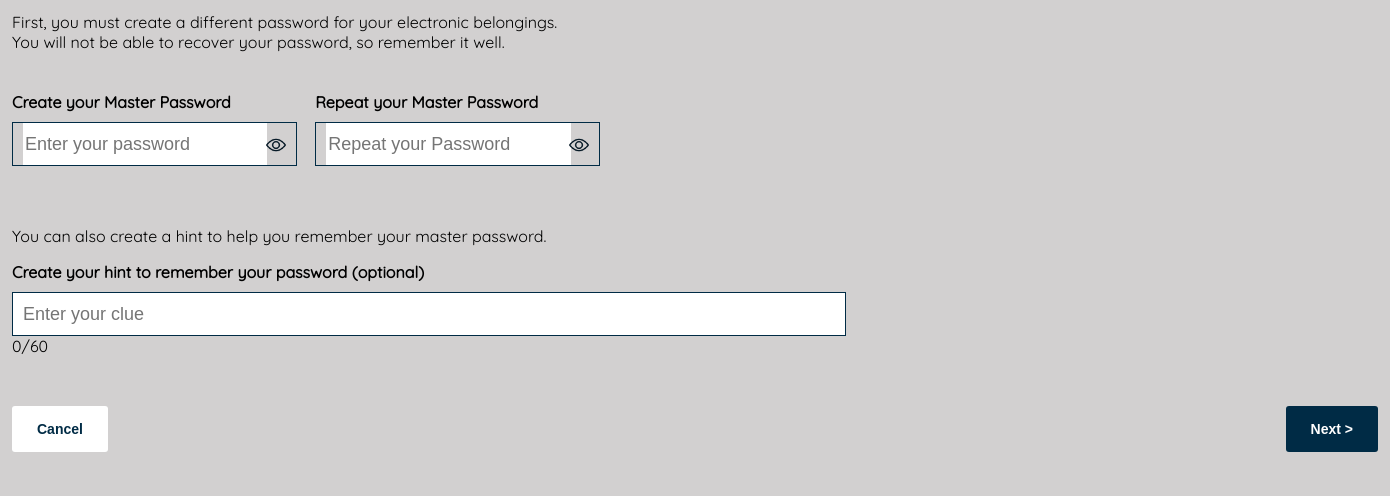
it: views/passwordManager/components/formPassword/formPassword › should display a error on passwordInput when the password do not match
In the password field with placeholder "Enter your password": (145, 144) [23,123,267,165], type "Prueba123"
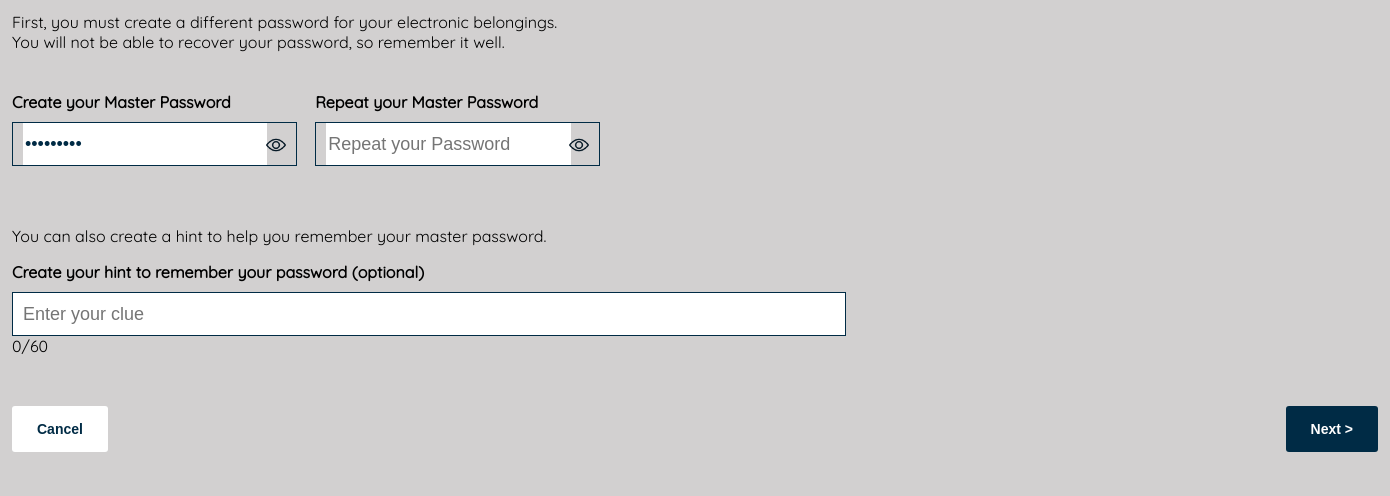
In the password field with placeholder "Repeat your Password": (448, 144) [326,123,571,165], type "Preba123"
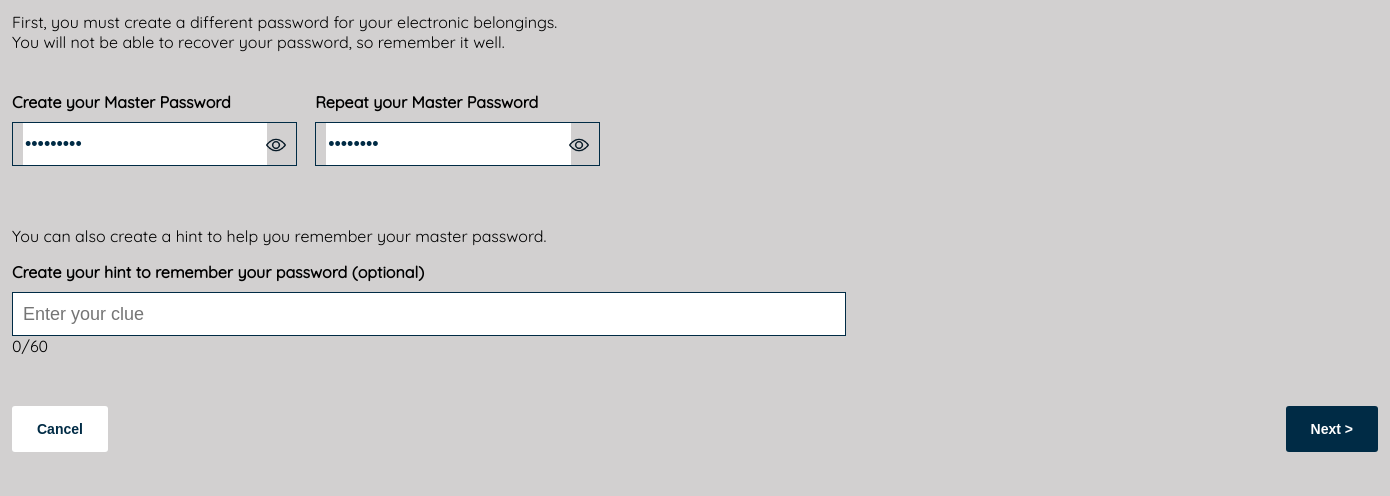
Click the button "Next >": (1332, 429) [1286,406,1378,452]
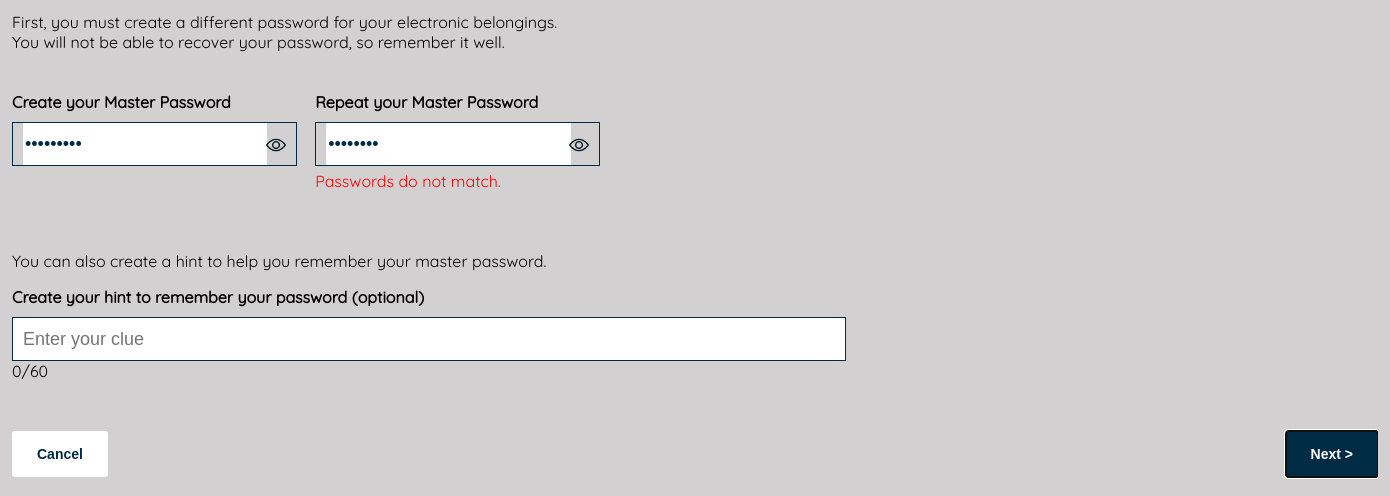
Now the number of elements with class "invalid-feedback" is 1, box [315,171,501,191]
